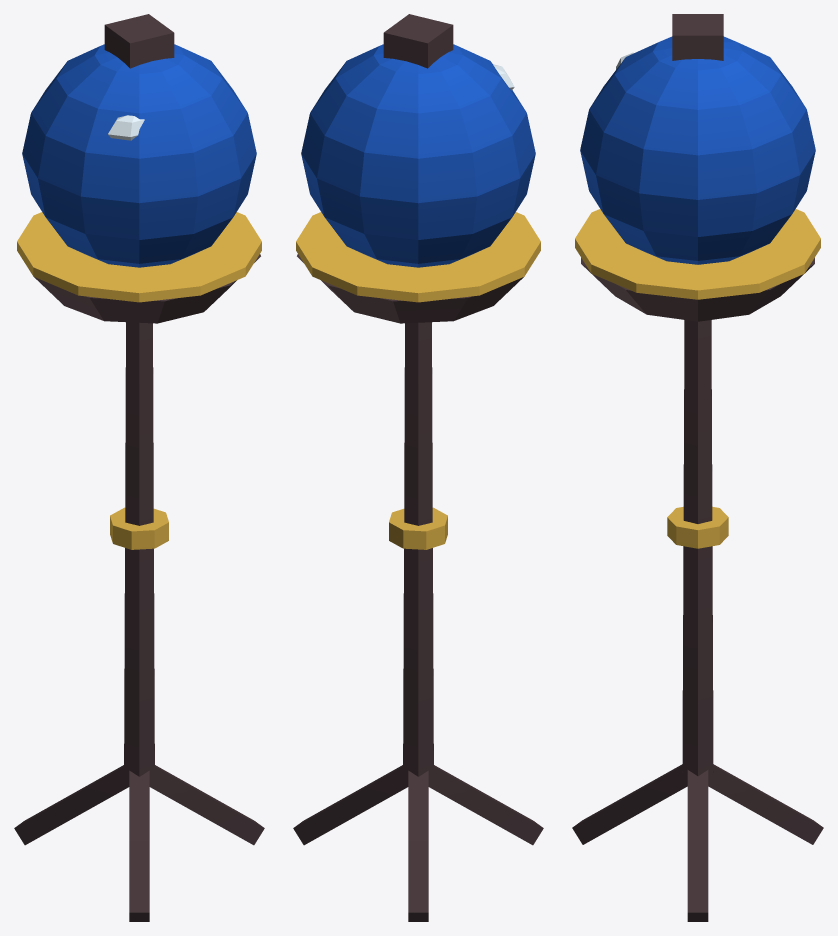
Rendered from orb_standing_blue.glb.
The picture shows the model from 3 angles, left to right: view 1: azimuth 30°, elevation 25°; view 2: azimuth 150°, elevation 25°; view 3: azimuth 270°, elevation 25°; orthographic projection.
Visible parts, largest first — view 1: orb_standing_blue; view 2: orb_standing_blue; view 3: orb_standing_blue.
Boxes of the visible parts, x1,y1,x2,y2 form: orb_standing_blue: [14, 14, 264, 921]; orb_standing_blue: [293, 14, 543, 921]; orb_standing_blue: [572, 14, 823, 921].
Bounding box in the file's own units: 0.5122 × 1.82 × 0.4915.
